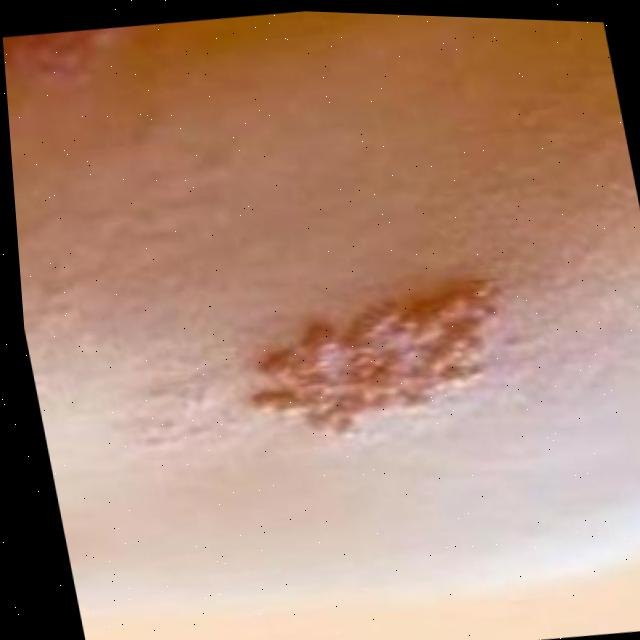Shingles: (226, 245, 535, 466), (4, 19, 161, 117)
